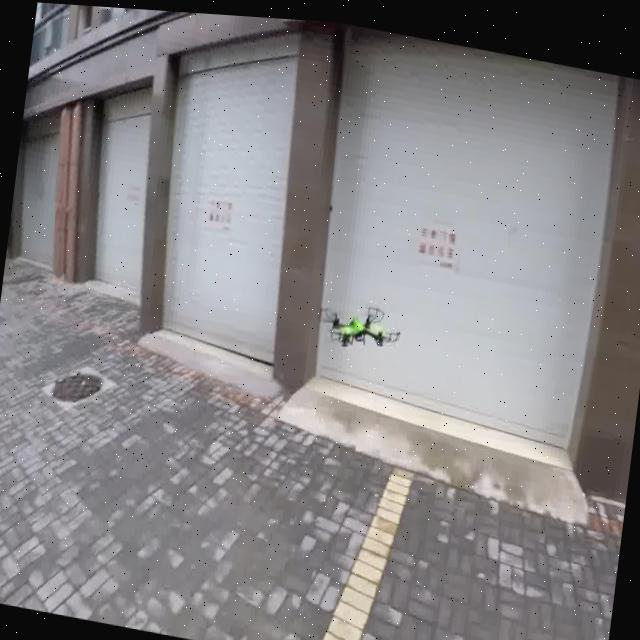drone: (308, 274, 409, 369)
